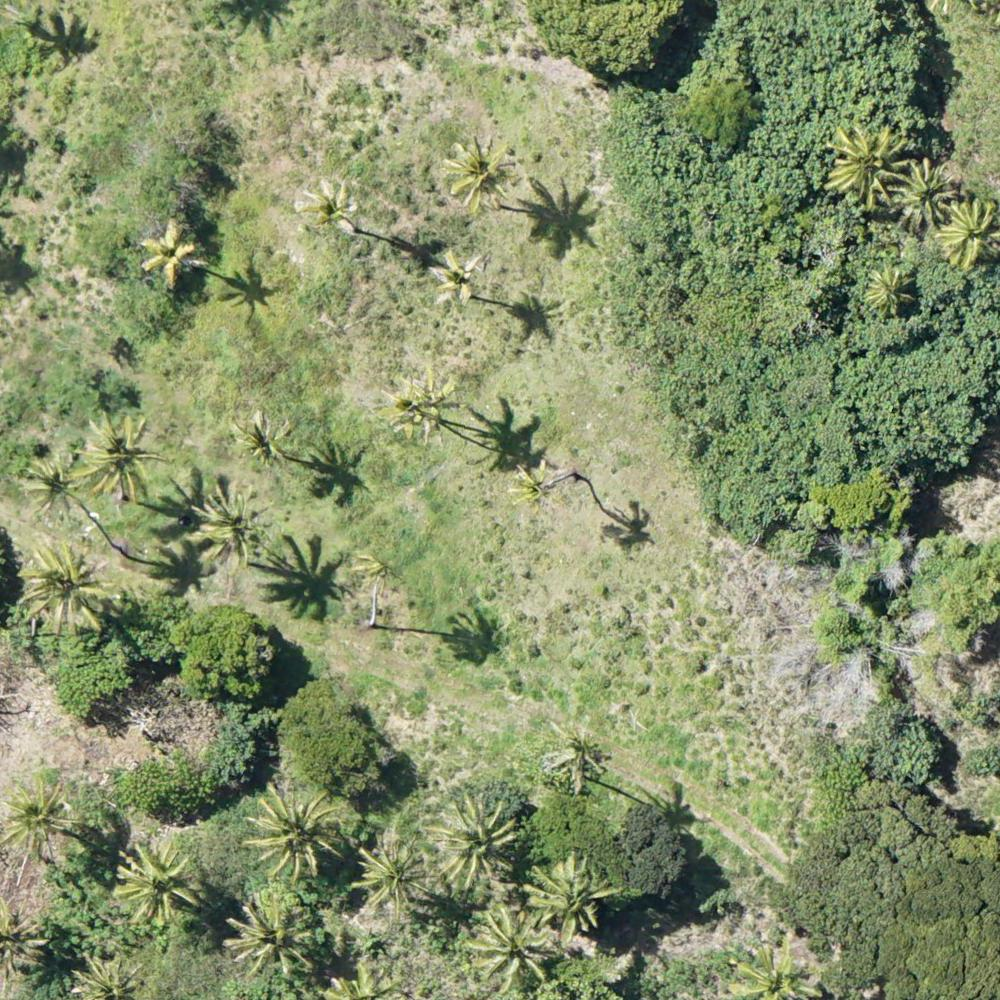Palm: (247, 779, 347, 879), (20, 543, 116, 633), (424, 796, 523, 882), (1, 773, 83, 875), (467, 902, 563, 989), (225, 895, 317, 984), (112, 836, 199, 926), (80, 412, 166, 501), (521, 857, 611, 941), (821, 124, 909, 209), (197, 485, 274, 569), (350, 839, 431, 917), (443, 136, 518, 212), (892, 160, 964, 227), (546, 719, 615, 786), (937, 196, 1000, 262), (230, 408, 293, 474), (381, 377, 448, 439), (24, 452, 88, 515), (137, 218, 195, 282), (298, 178, 354, 241), (430, 248, 487, 306), (509, 462, 563, 513), (868, 266, 920, 316)
